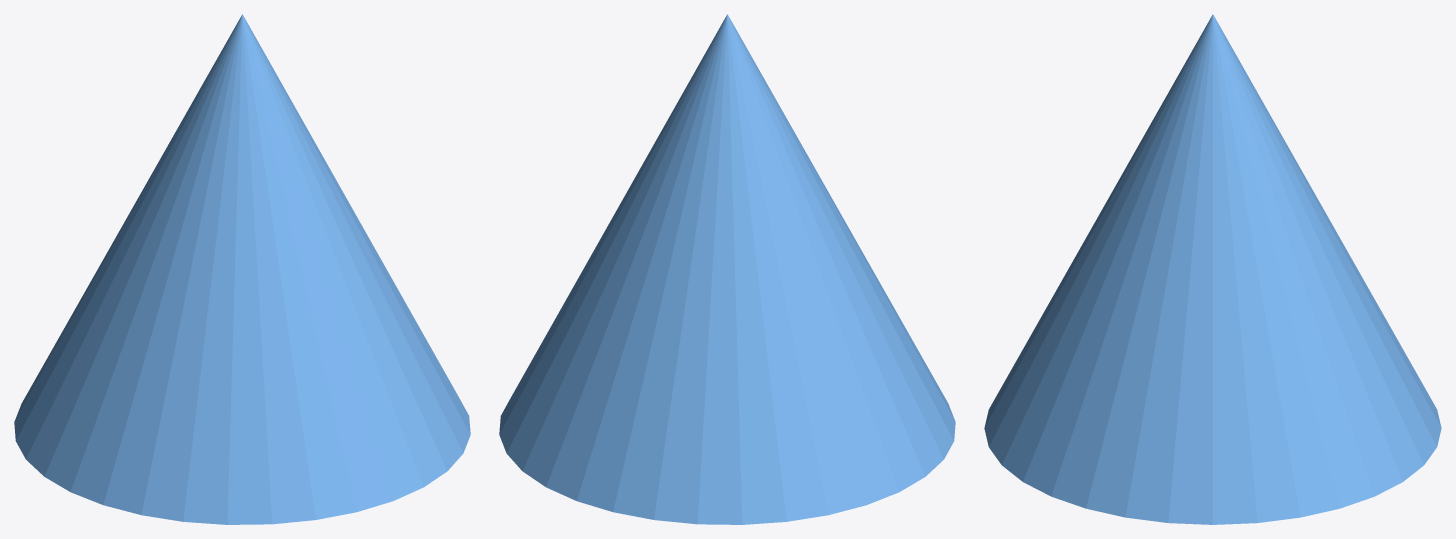
The picture shows the model from 3 angles, left to right: view 1: azimuth 30°, elevation 25°; view 2: azimuth 150°, elevation 25°; view 3: azimuth 270°, elevation 25°; orthographic projection.
Parts seen in each view (by area): view 1: Cono; view 2: Cono; view 3: Cono.
Boxes of the visible parts, x1,y1,x2,y2 form: Cono: (14, 14, 470, 524); Cono: (499, 14, 955, 524); Cono: (984, 14, 1441, 524).
Size of the model in its own units: 1 by 1 by 1.
